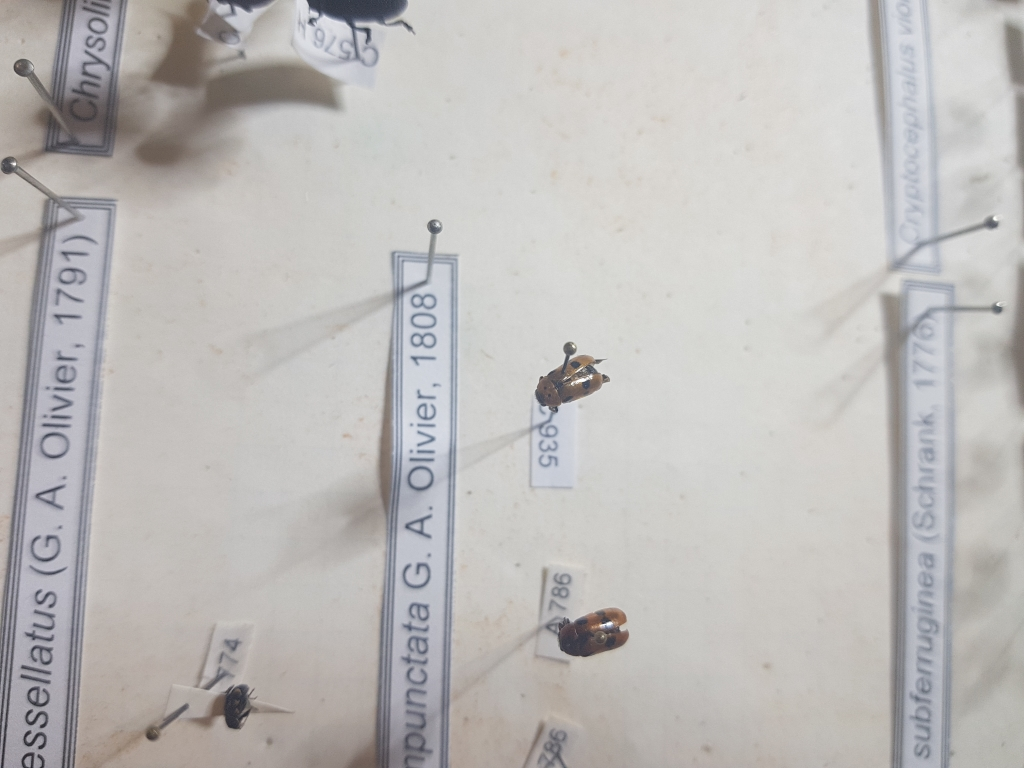Clytra_novempunctata: (531, 350, 610, 412), (558, 602, 632, 659)
